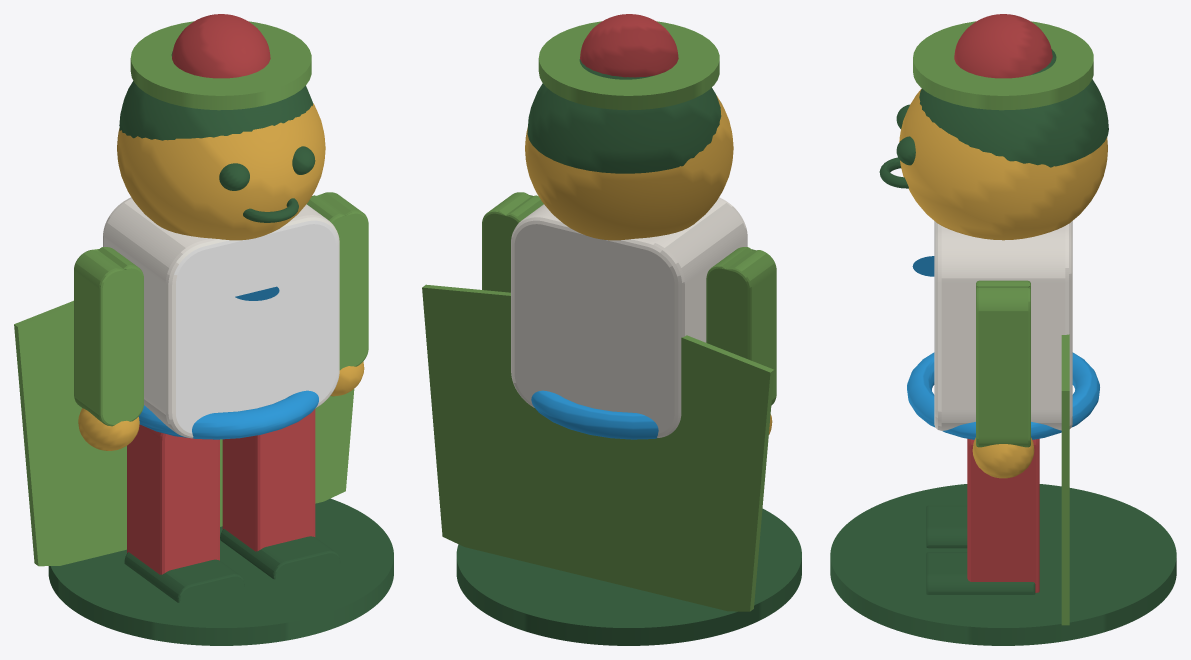
The model's file is 1319_中国古代寓言_纪昌.glb.
The picture shows the model from 3 angles, left to right: view 1: azimuth 30°, elevation 25°; view 2: azimuth 150°, elevation 25°; view 3: azimuth 270°, elevation 25°; orthographic projection.
Visible parts, largest first — view 1: card_1319; view 2: card_1319; view 3: card_1319.
Part boxes in pixels (x1,y1,x2,y2): card_1319: [14, 14, 393, 645]; card_1319: [422, 14, 801, 645]; card_1319: [830, 14, 1176, 645].
Size of the model in its own units: 0.6444 by 1 by 0.5544.
